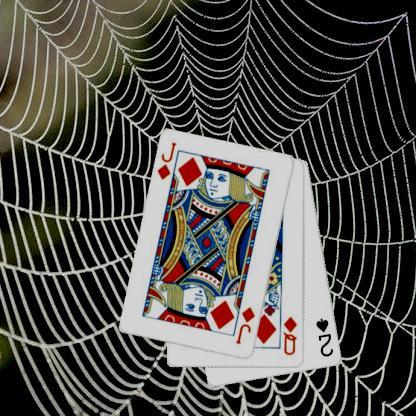2S: (314, 315, 335, 358)
JD: (233, 305, 257, 346), (154, 140, 178, 181)
QD: (281, 314, 299, 357)
